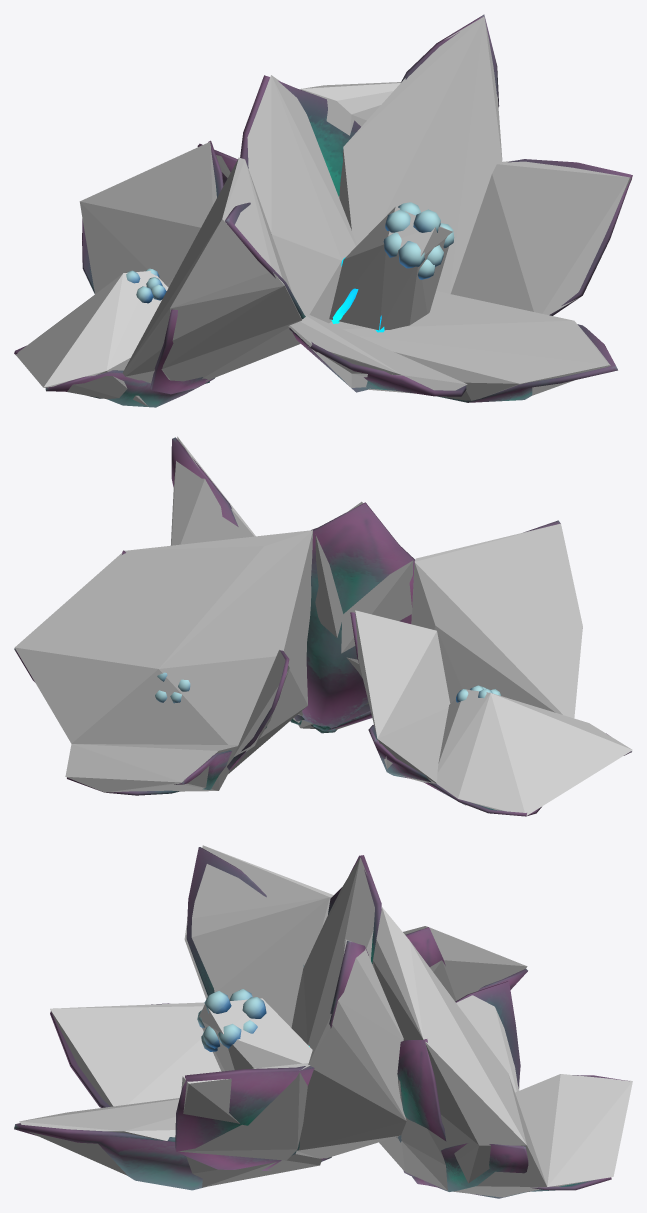
Rendered from SM_Flowers_a.fbx.
The picture shows the model from 3 angles, top to bottom: view 1: azimuth 30°, elevation 25°; view 2: azimuth 150°, elevation 25°; view 3: azimuth 270°, elevation 25°; orthographic projection. The views are drawn at different scales.
Visible parts, largest first — view 1: SM_Flowers_a_ConvexHulls, SM_Flowers_a; view 2: SM_Flowers_a_ConvexHulls, SM_Flowers_a; view 3: SM_Flowers_a_ConvexHulls, SM_Flowers_a.
Part boxes in pixels (box(x1,y1,x2,y2)): SM_Flowers_a_ConvexHulls: box(15, 16, 631, 406); SM_Flowers_a: box(14, 14, 632, 407); SM_Flowers_a_ConvexHulls: box(14, 436, 632, 815); SM_Flowers_a: box(14, 437, 631, 816); SM_Flowers_a_ConvexHulls: box(19, 845, 632, 1197); SM_Flowers_a: box(14, 847, 629, 1198).
Bounding box in the file's own units: 38.6 × 39.55 × 20.6.
2 materials, 1 textured.
